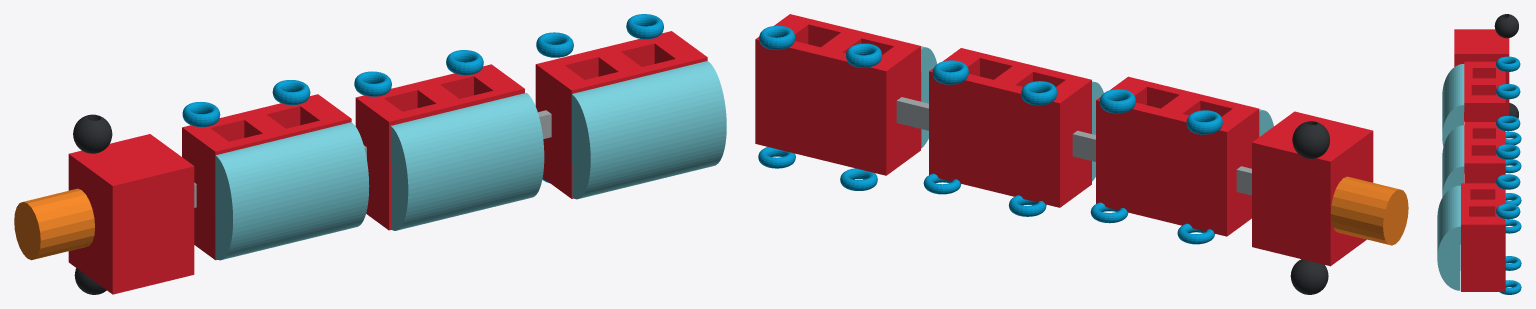
The model's file is tinker.obj.
3 renders of one model, left to right at view 1: azimuth 30°, elevation 25°; view 2: azimuth 150°, elevation 25°; view 3: azimuth 270°, elevation 25°, orthographic. The views are drawn at different scales.
Visible parts, largest first — view 1: group_0_7720667, group_0_15277357, group_0_40919, group_0_16089887, group_0_2829873; view 2: group_0_15277357, group_0_40919, group_0_16089887, group_0_2829873, group_0_10988977, group_0_7720667; view 3: group_0_15277357, group_0_7720667, group_0_40919, group_0_2829873.
Part boxes in pixels (x1=…): group_0_7720667: x1=215, y1=61, x2=726, y2=260; group_0_15277357: x1=68, y1=31, x2=707, y2=294; group_0_40919: x1=182, y1=14, x2=663, y2=183; group_0_16089887: x1=14, y1=188, x2=94, y2=260; group_0_2829873: x1=73, y1=114, x2=112, y2=294; group_0_15277357: x1=755, y1=14, x2=1373, y2=266; group_0_40919: x1=758, y1=25, x2=1222, y2=244; group_0_16089887: x1=1330, y1=176, x2=1408, y2=245; group_0_2829873: x1=1290, y1=121, x2=1329, y2=294; group_0_10988977: x1=896, y1=97, x2=1251, y2=195; group_0_7720667: x1=921, y1=46, x2=1273, y2=181; group_0_15277357: x1=1454, y1=29, x2=1509, y2=291; group_0_7720667: x1=1437, y1=64, x2=1464, y2=290; group_0_40919: x1=1496, y1=56, x2=1521, y2=294; group_0_2829873: x1=1494, y1=14, x2=1518, y2=118.
Size of the model in its own units: 385 by 99.18 by 69.
